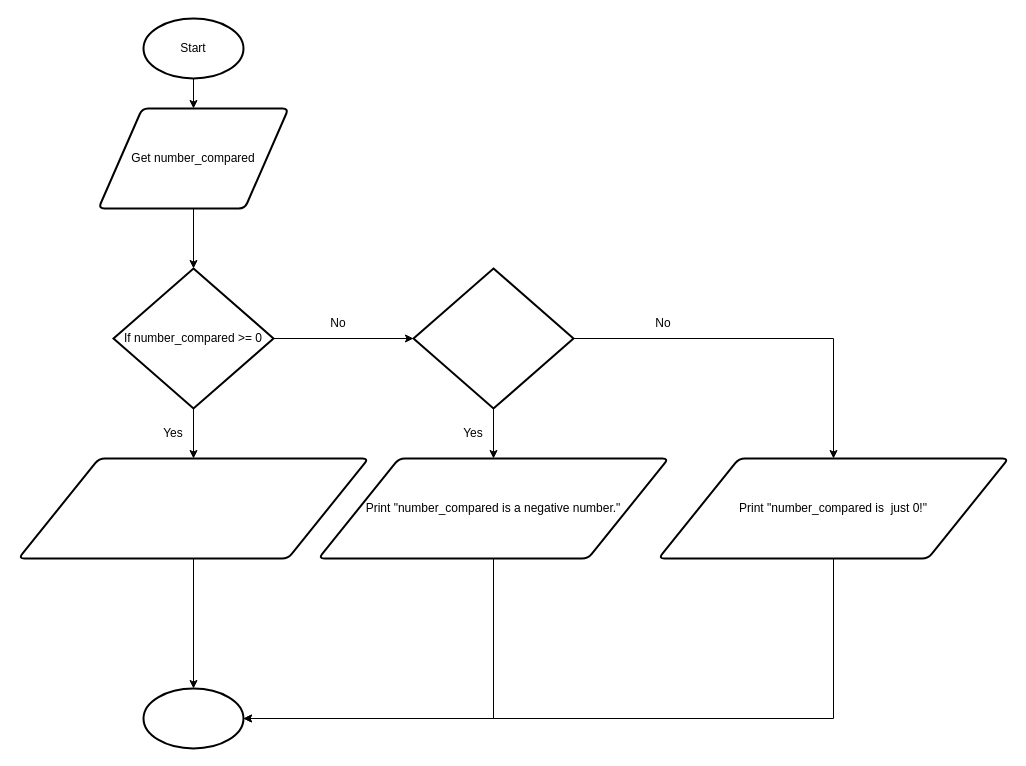
Some shapes in this 1026 by 766 pixel diagram are drawn without their labels. Here are the shapes that lost their labels. From the top down, the centre of each, then its label:
pixel 493 338: If number_compared <= 0
pixel 193 508: Print "number_compared is a positive number."
pixel 193 718: Stop
